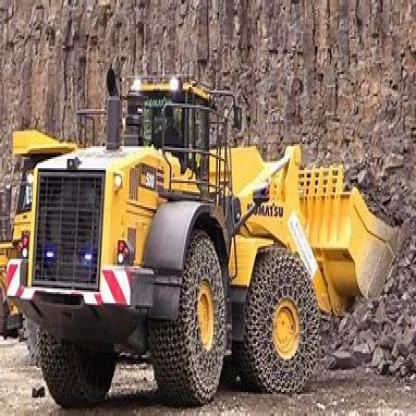bull_dozer/loader/grader: (3, 59, 404, 407)
